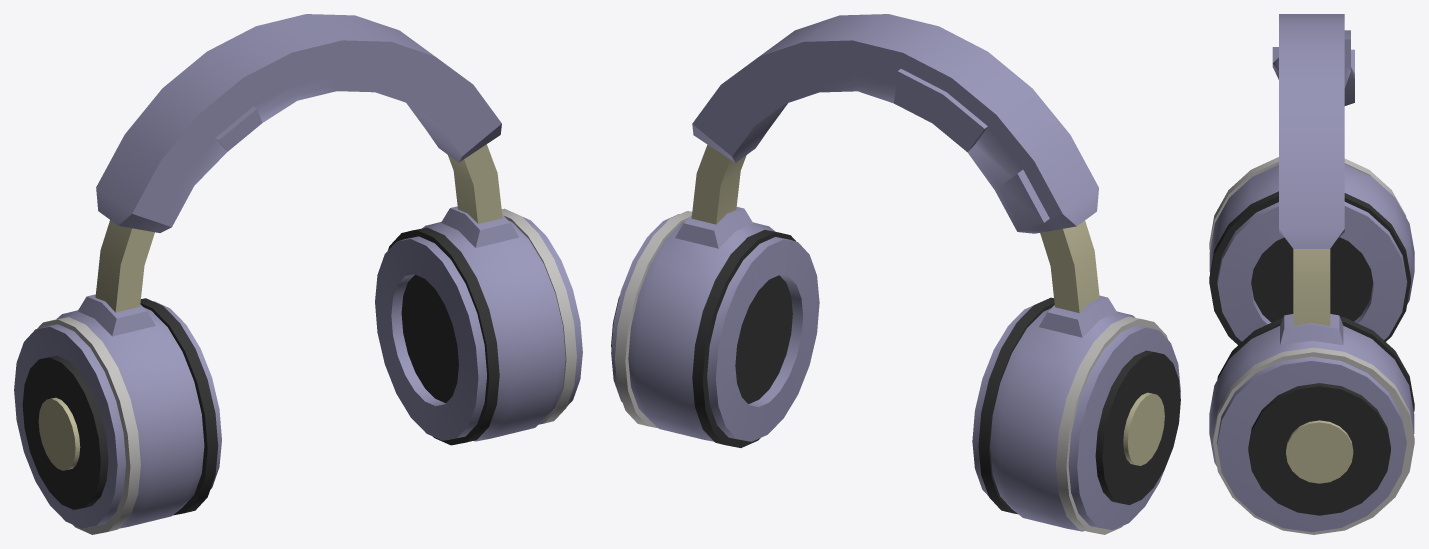
The model's file is colored headset deskroom.fbx.
3 views of the same model, side by side, from view 1: azimuth 30°, elevation 25°; view 2: azimuth 150°, elevation 25°; view 3: azimuth 270°, elevation 25° (orthographic). The views are drawn at different scales.
Parts seen in each view (by area): view 1: polySurface4, polySurface1, polySurface13, polySurface10, polySurface15, polySurface14, polySurface12, polySurface6; view 2: polySurface4, polySurface1, polySurface13, polySurface10, polySurface15, polySurface12, polySurface14, polySurface6; view 3: polySurface4, polySurface1, polySurface10, polySurface14, polySurface12, polySurface11, polySurface13, polySurface15.
Boxes of the visible parts, x1,y1,x2,y2 form: polySurface4: [14, 206, 582, 528]; polySurface1: [95, 14, 502, 312]; polySurface13: [388, 227, 499, 445]; polySurface10: [22, 355, 108, 509]; polySurface15: [37, 317, 140, 534]; polySurface14: [140, 298, 218, 515]; polySurface12: [501, 208, 576, 424]; polySurface6: [38, 397, 80, 470]; polySurface4: [611, 207, 1180, 531]; polySurface1: [691, 14, 1099, 312]; polySurface13: [692, 230, 795, 447]; polySurface10: [611, 296, 1180, 504]; polySurface15: [1056, 316, 1167, 534]; polySurface12: [614, 211, 692, 427]; polySurface14: [978, 297, 1054, 514]; polySurface6: [1123, 392, 1164, 465]; polySurface4: [1209, 164, 1414, 532]; polySurface1: [1272, 14, 1354, 325]; polySurface10: [1248, 383, 1390, 515]; polySurface14: [1209, 191, 1410, 344]; polySurface12: [1213, 347, 1414, 534]; polySurface11: [1286, 420, 1353, 483]; polySurface13: [1217, 317, 1414, 411]; polySurface15: [1209, 157, 1406, 250].
Bounding box in the file's own units: 0.2395 × 0.2048 × 0.095.
